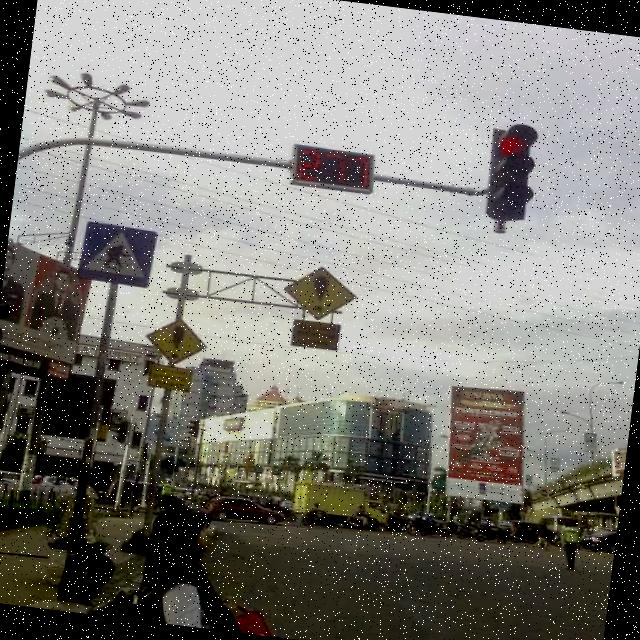Czerwone swiatlo: (486, 123, 534, 224)
